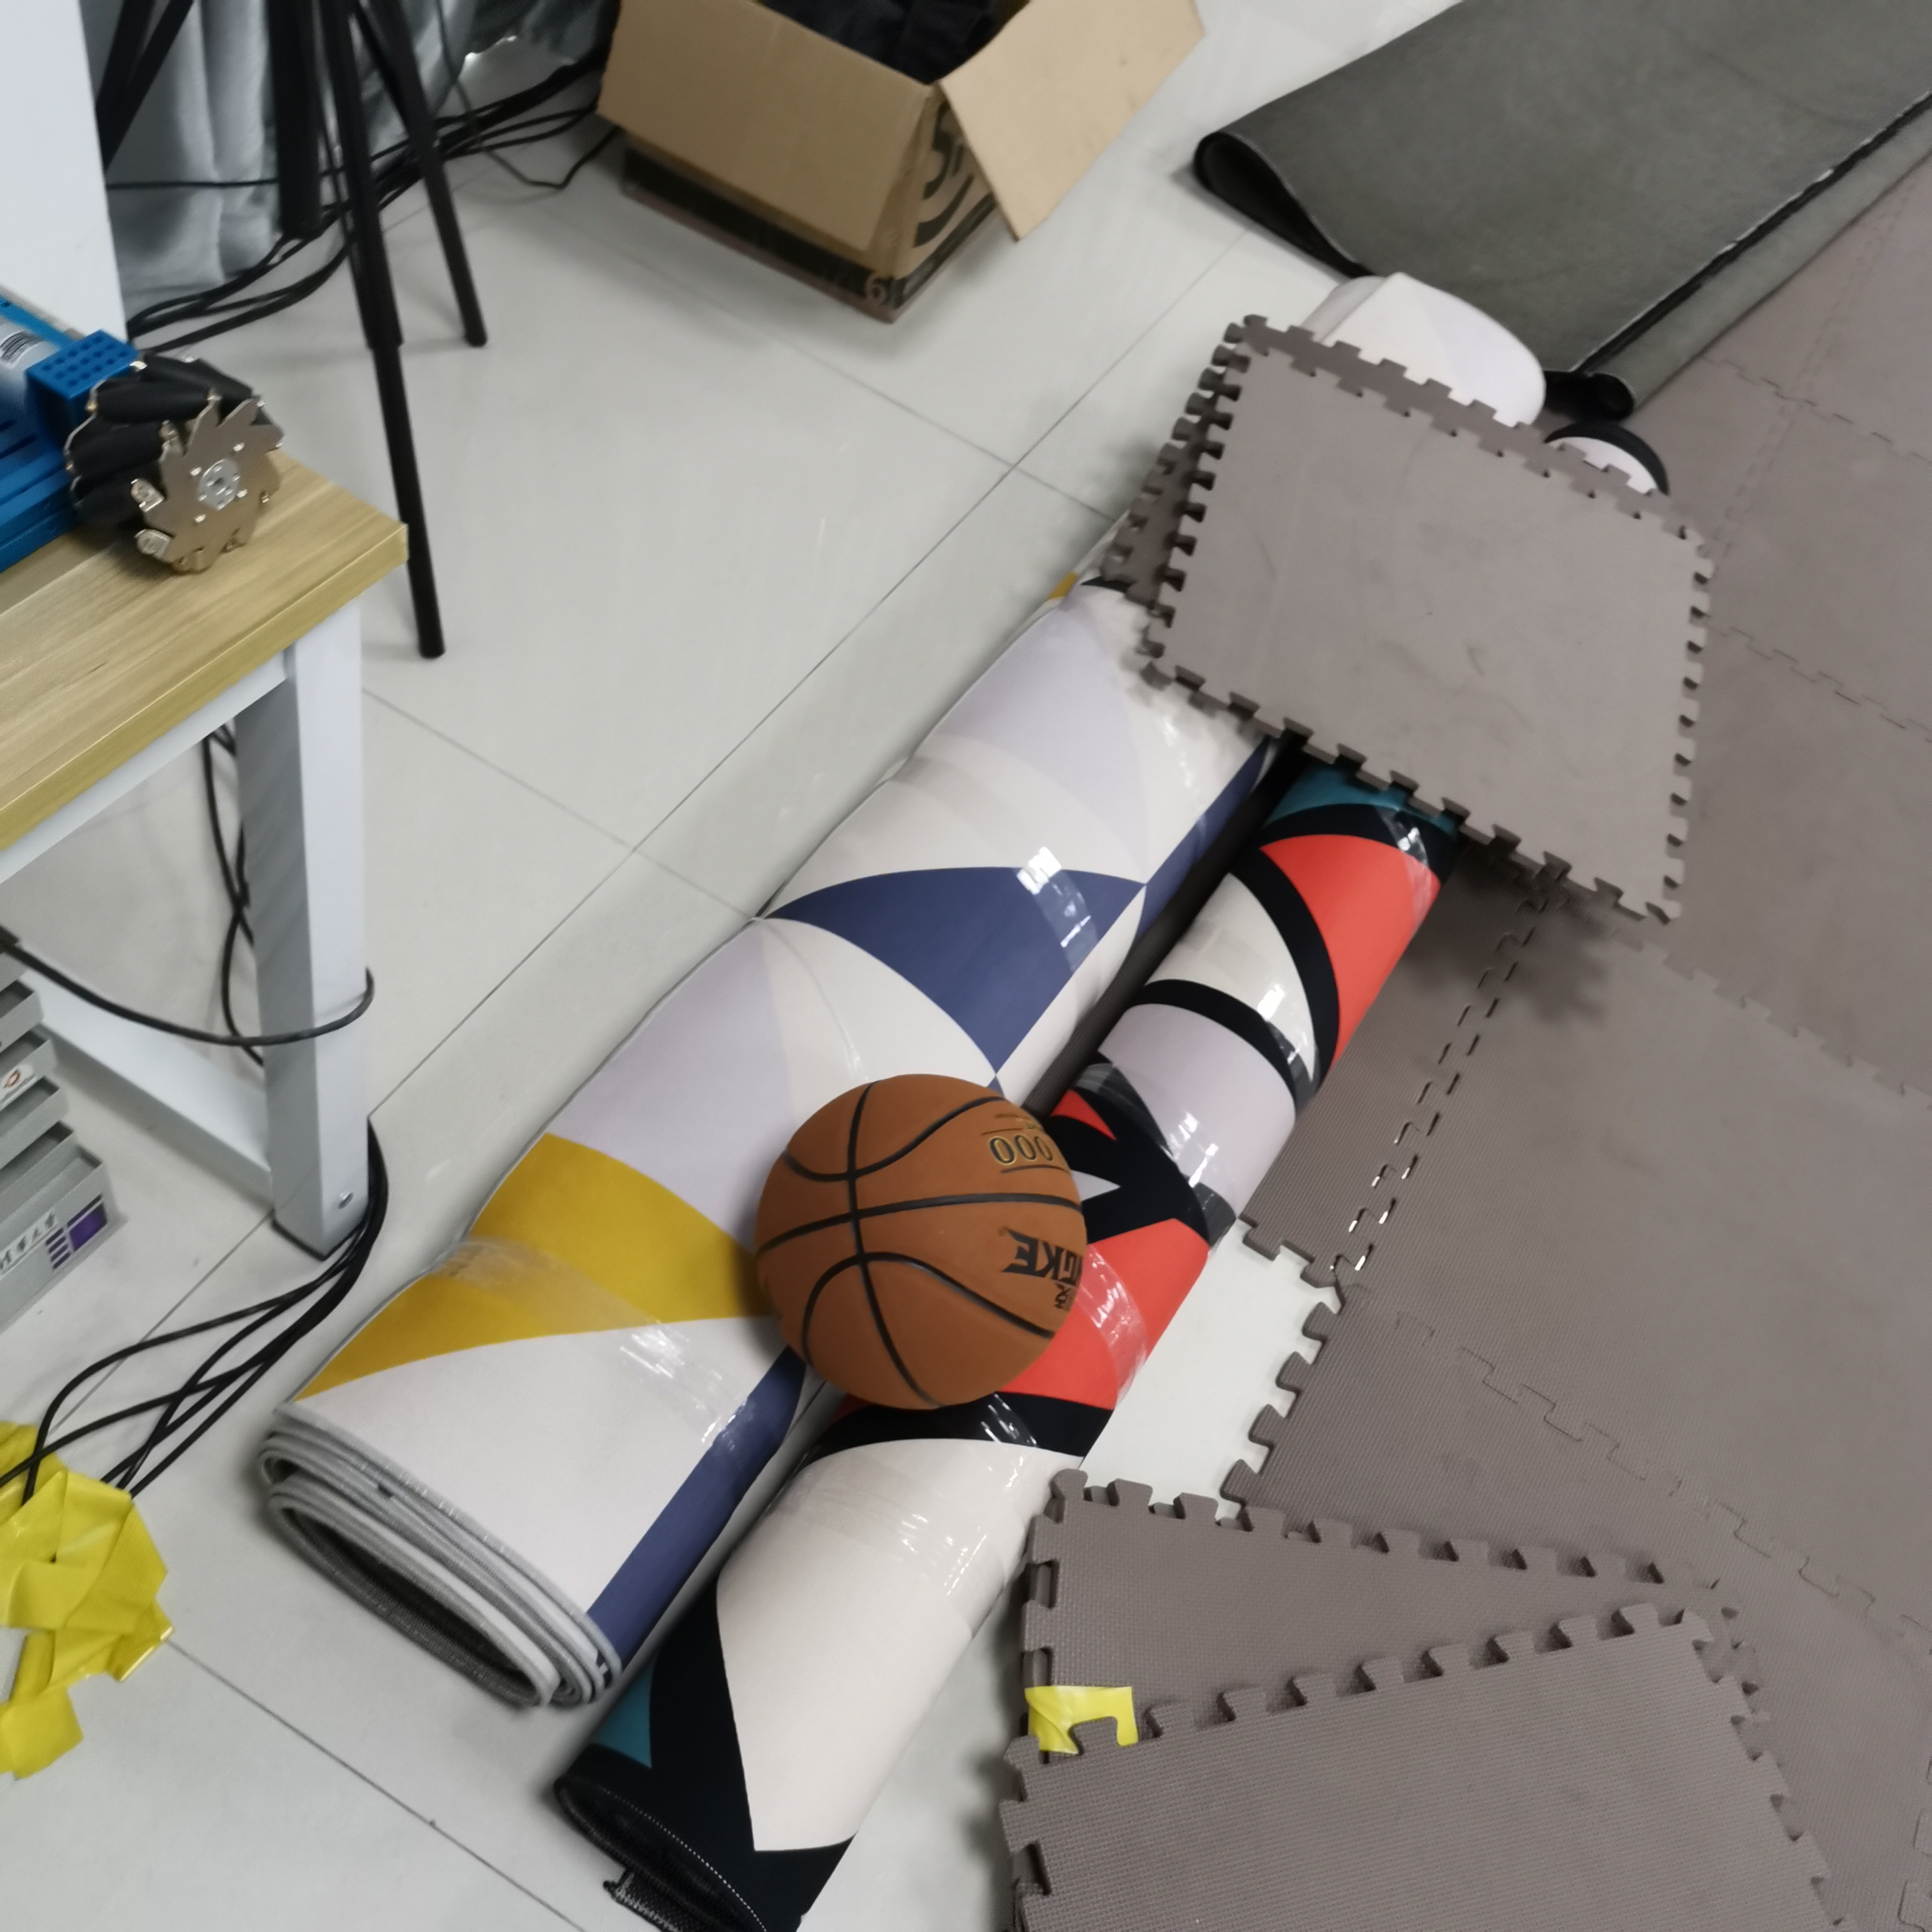basketball: (757, 1072, 1088, 1408)
